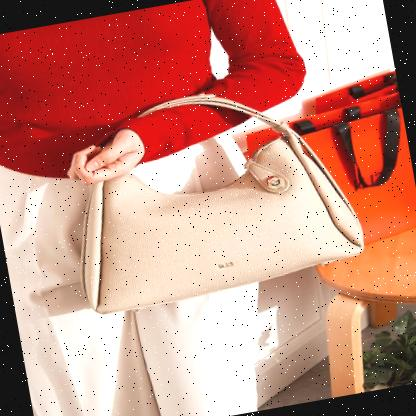bag: (46, 64, 374, 322)
